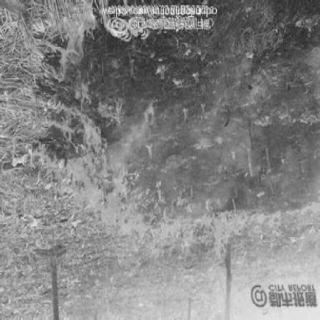Fire: (39, 2, 203, 270), (210, 199, 318, 261)
other: (250, 282, 318, 320)
